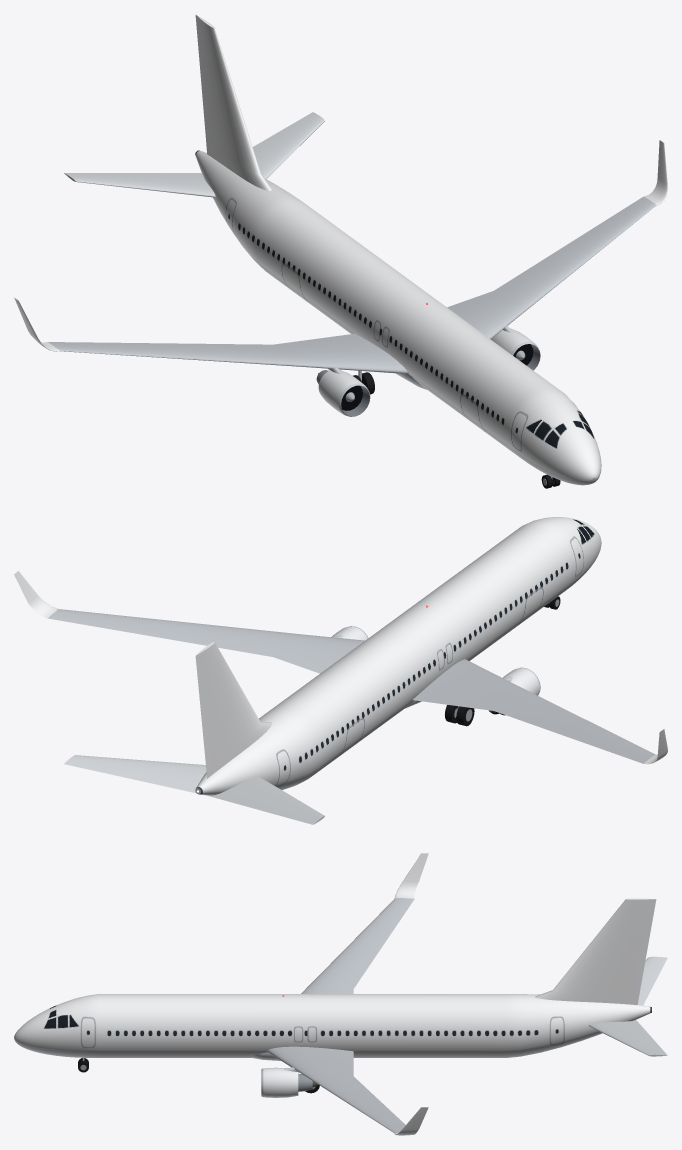
3 renders of one model, top to bottom at view 1: azimuth 30°, elevation 25°; view 2: azimuth 150°, elevation 25°; view 3: azimuth 270°, elevation 25°, orthographic. The views are drawn at different scales.
Parts seen in each view (by area): view 1: body; view 2: body, gear; view 3: body.
Part boxes in pixels (x1,y1,x2,y2): body: [14, 14, 667, 485]; body: [14, 517, 667, 824]; gear: [445, 596, 560, 726]; body: [14, 853, 667, 1135].
Bounding box in the file's own units: 37.18 × 11.67 × 40.45.
Materials: 19 (1 with a texture image).
